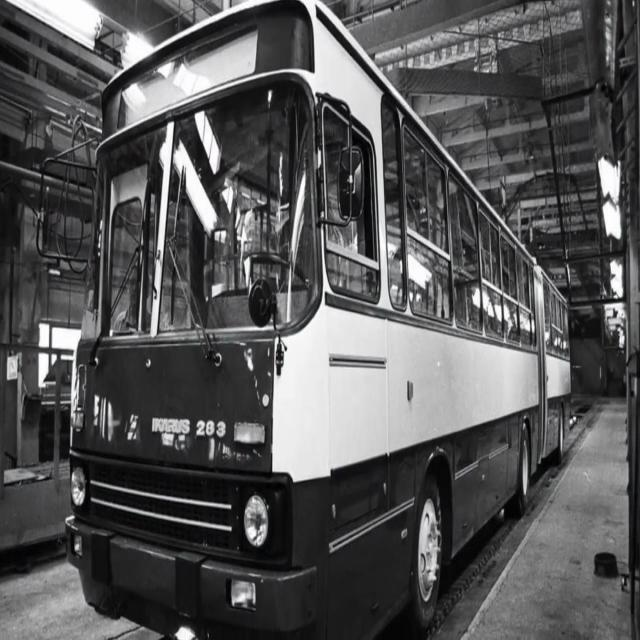Bus: (61, 0, 576, 640)
